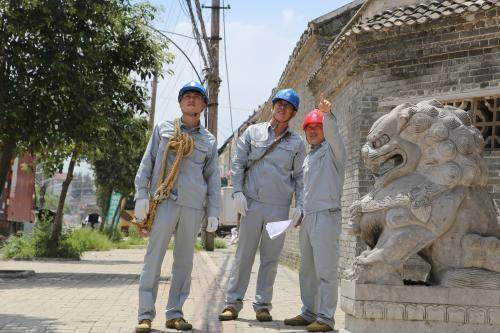helmet: (175, 79, 208, 119), (269, 87, 302, 124), (302, 108, 326, 145)
not_reflective: (135, 118, 222, 209), (228, 122, 306, 206), (299, 143, 348, 209)
